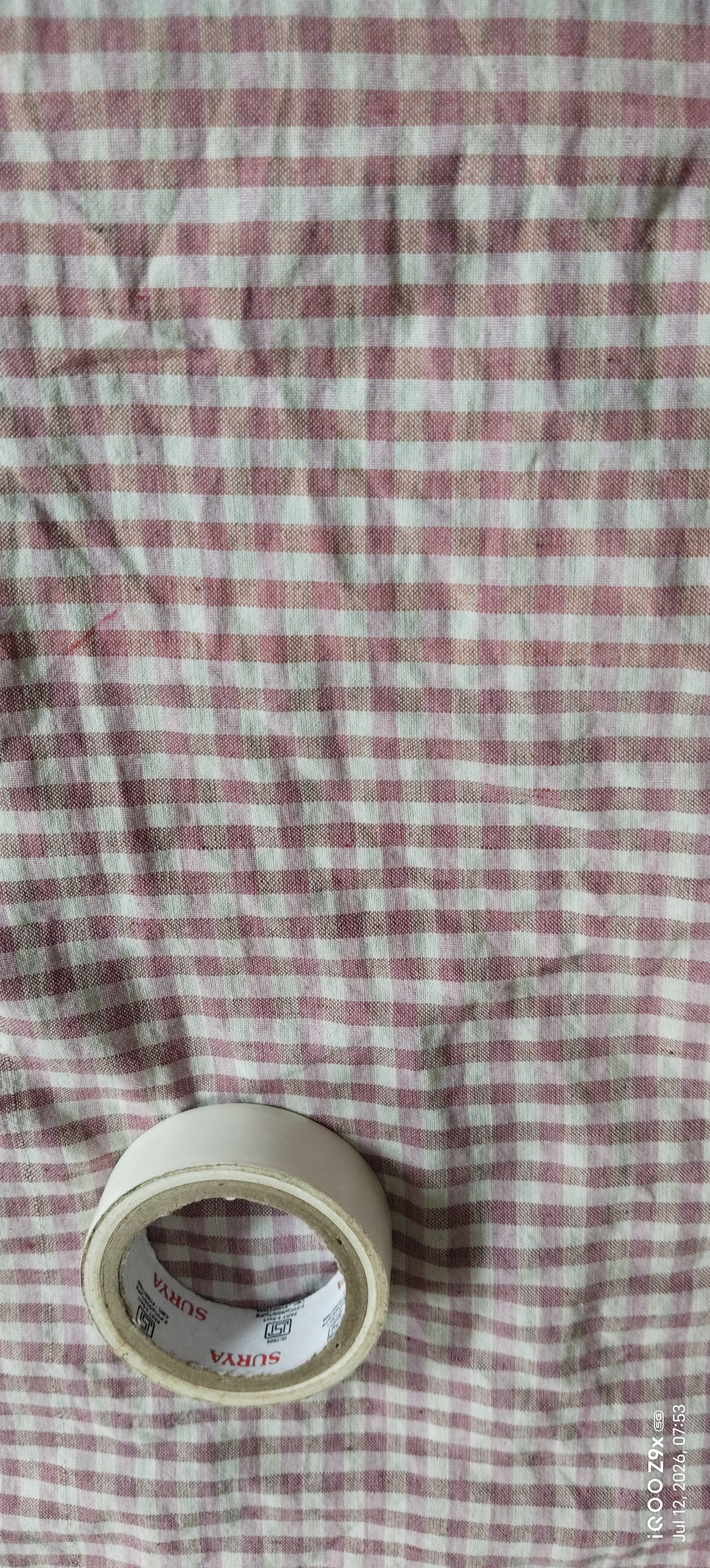tape_roll: (67, 1096, 417, 1432)
